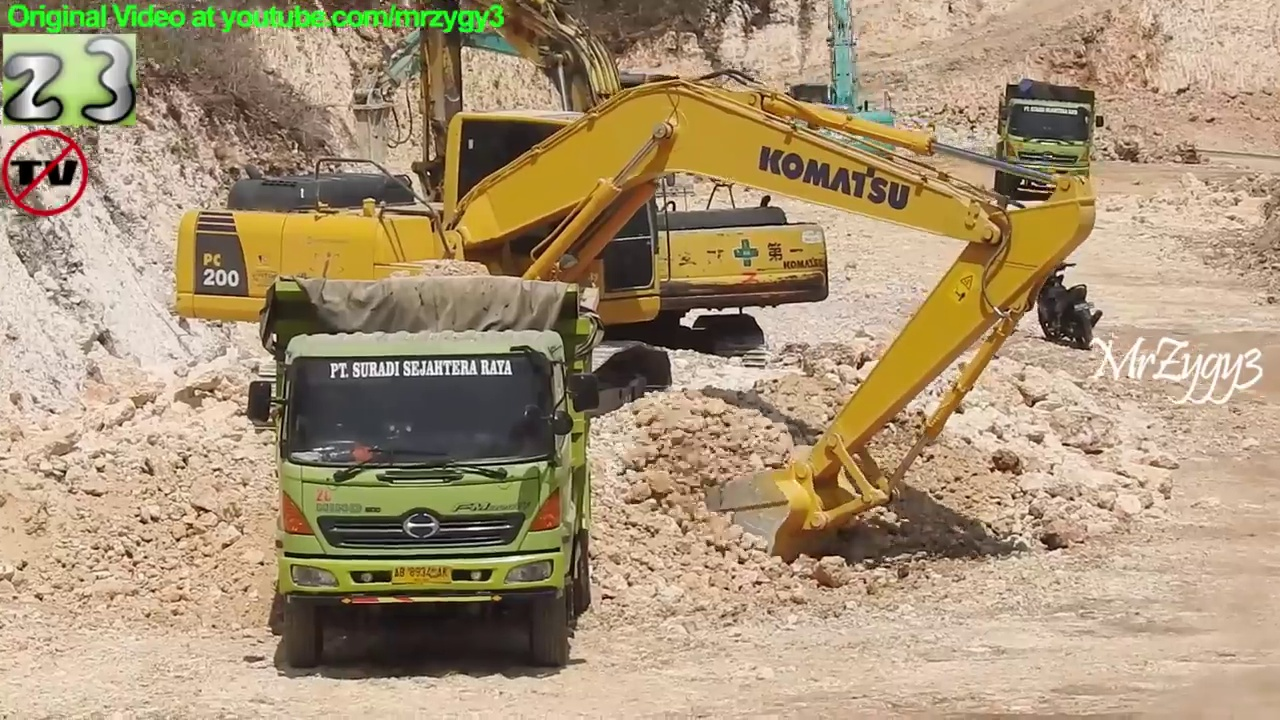excavator: (165, 64, 1103, 569), (389, 1, 838, 382), (341, 1, 737, 213), (749, 1, 906, 198)
truck: (243, 267, 609, 672), (988, 72, 1107, 207)
